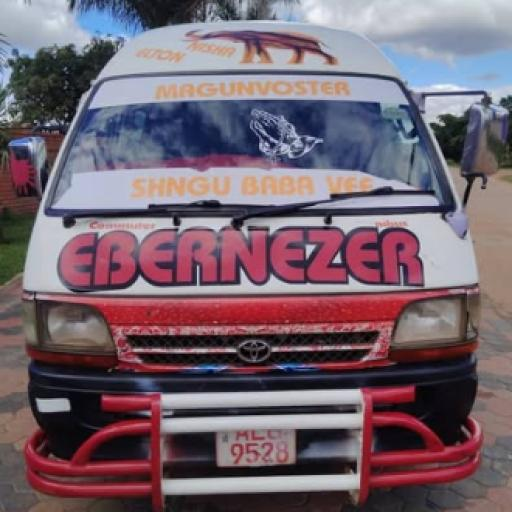number-plates: (213, 424, 297, 464)
